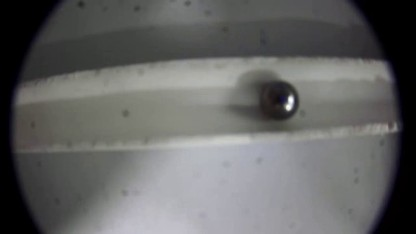gangzhu: (257, 79, 300, 121)
